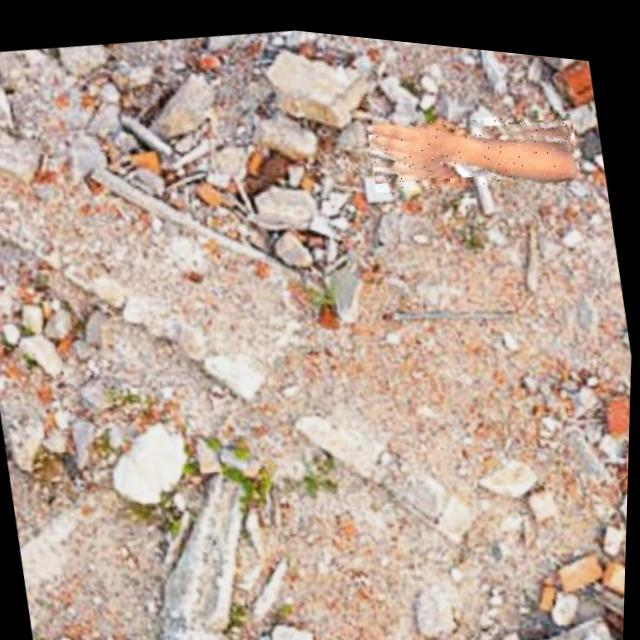Person in Rubble: (364, 81, 582, 201)
